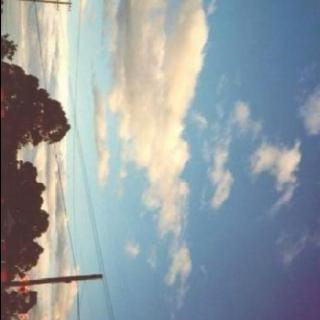Stratocumulus: (29, 0, 320, 320)
